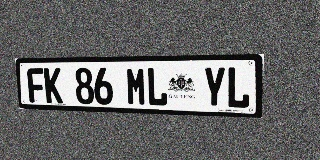6: (93, 68, 113, 105)
8: (74, 68, 94, 104)
F: (27, 68, 46, 103)
K: (44, 68, 63, 103)
L: (226, 67, 251, 109), (146, 67, 168, 106)
M: (126, 67, 147, 106)
Y: (203, 67, 226, 108)
